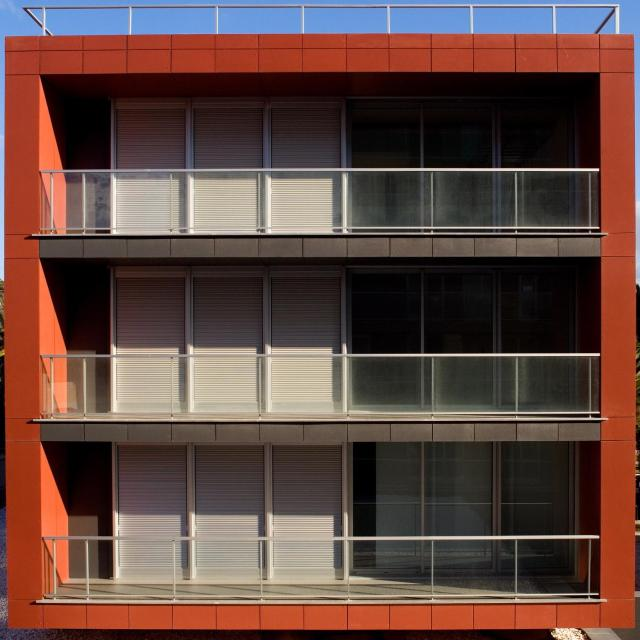Railing: (46, 533, 607, 599), (41, 168, 600, 233), (40, 355, 599, 416), (18, 6, 616, 32)
wall: (5, 5, 636, 628)
windows: (351, 444, 584, 535), (345, 264, 574, 352), (342, 95, 578, 169)
